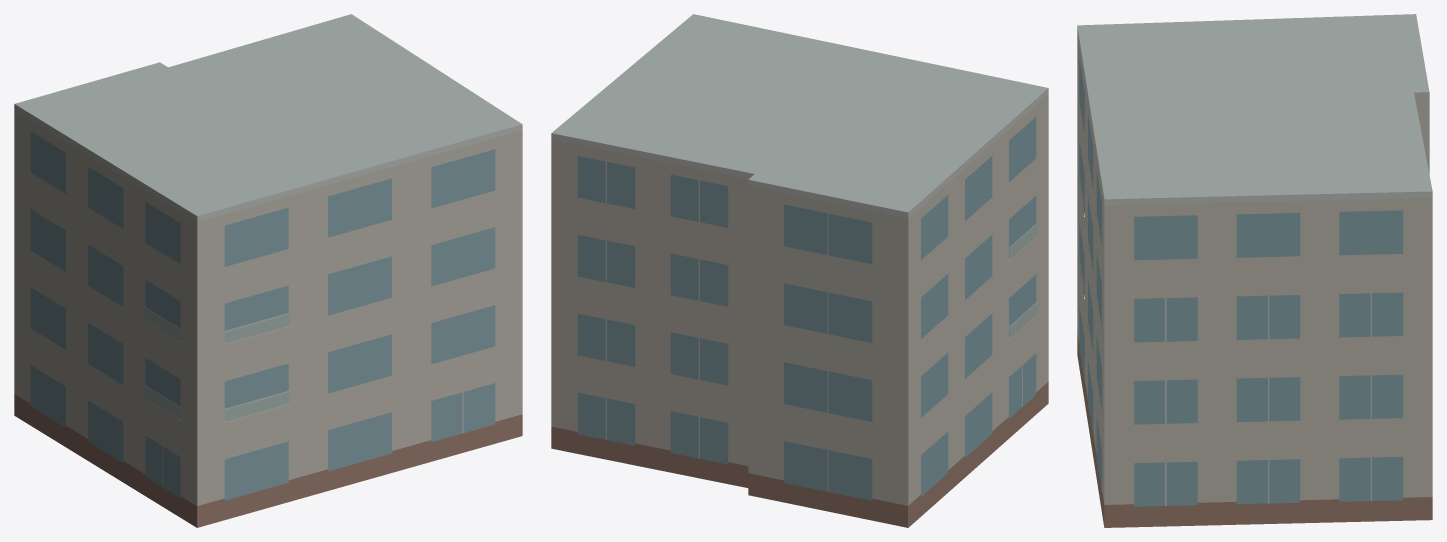
Rendered from survey-upis-32746331.glb.
The picture shows the model from 3 angles, left to right: view 1: azimuth 30°, elevation 25°; view 2: azimuth 150°, elevation 25°; view 3: azimuth 270°, elevation 25°; orthographic projection. The views are drawn at different scales.
Visible parts, largest first — view 1: survey-upis-32746331.tmp; view 2: survey-upis-32746331.tmp; view 3: survey-upis-32746331.tmp.
Boxes of the visible parts, left/top/right/bottom form: survey-upis-32746331.tmp: left=14, top=14, right=522, bottom=527; survey-upis-32746331.tmp: left=551, top=14, right=1048, bottom=527; survey-upis-32746331.tmp: left=1077, top=14, right=1432, bottom=527.
Bounding box in the file's own units: 15.43 × 12.75 × 12.51.
